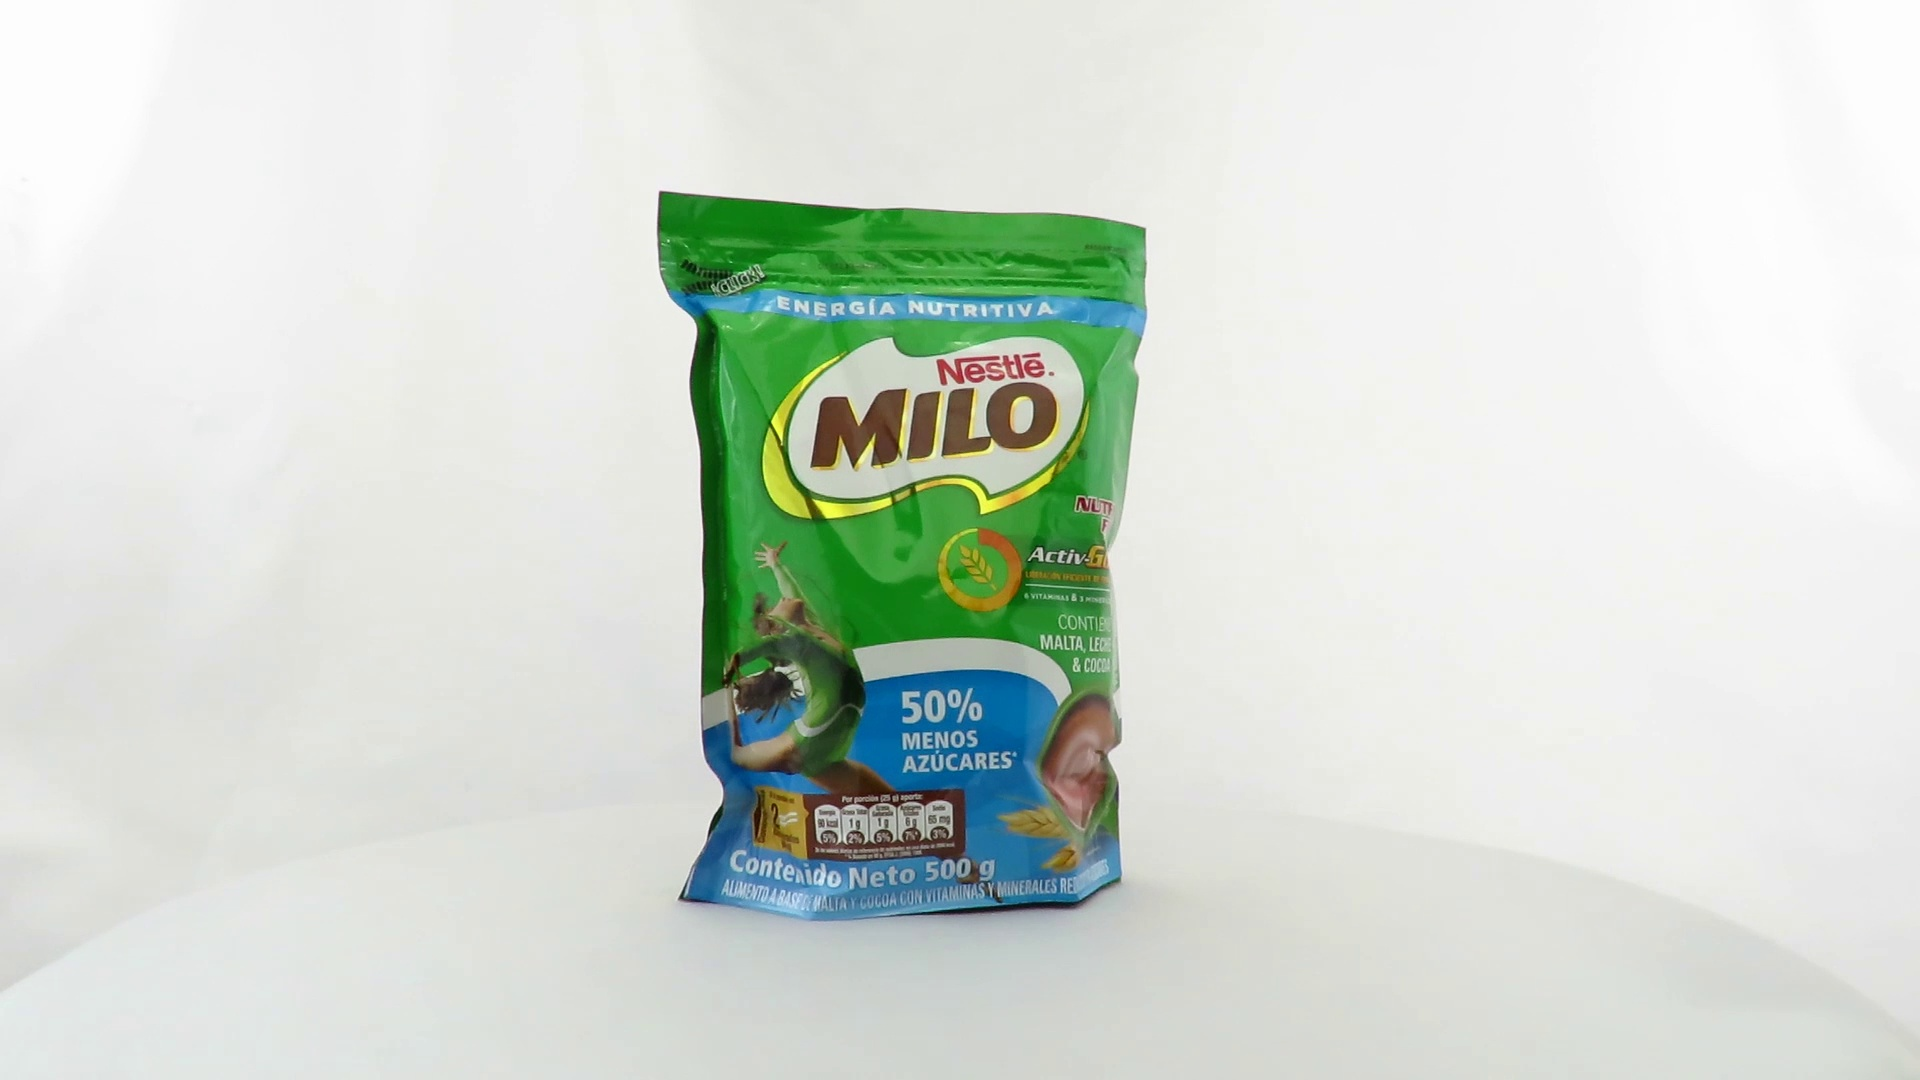COL0170205DYP50000: (651, 186, 1153, 928)
